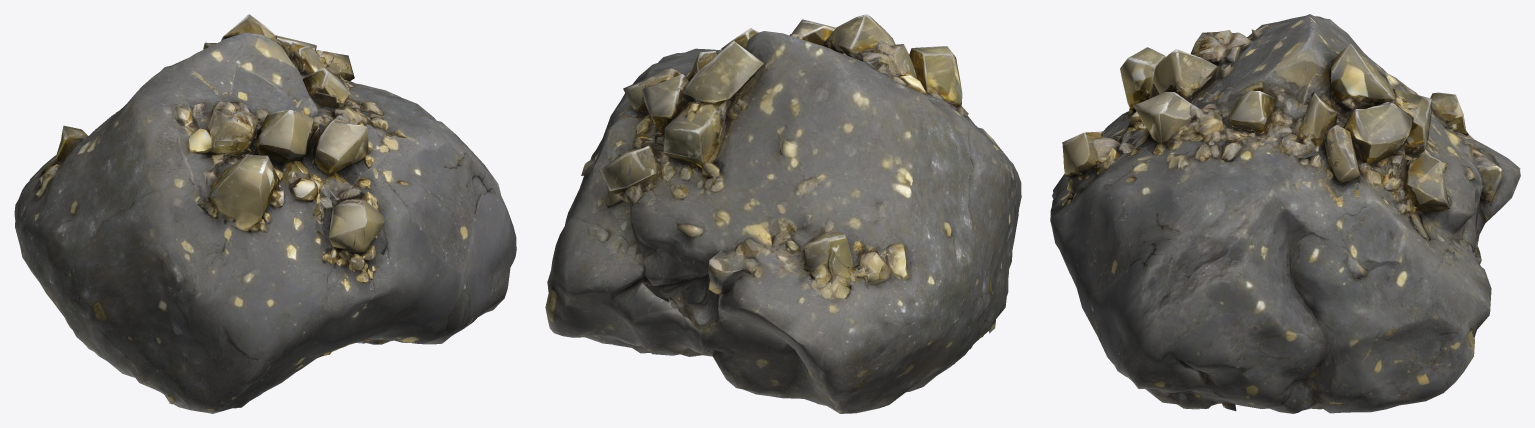
File: gold__ore-stone-metallic.glb
3 renders of one model, left to right at view 1: azimuth 30°, elevation 25°; view 2: azimuth 150°, elevation 25°; view 3: azimuth 270°, elevation 25°, orthographic. The views are drawn at different scales.
Bounding box in the file's own units: 2 × 1.51 × 2.01.
1 material, 1 textured.
